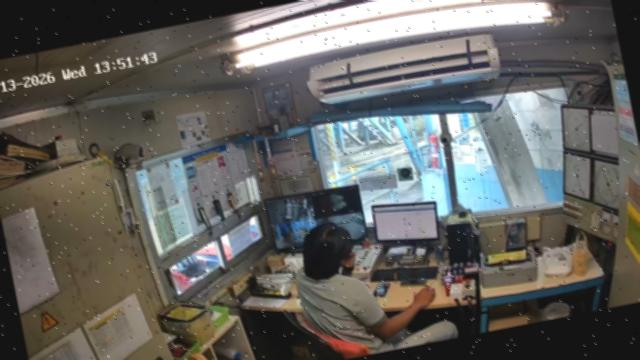Head: (303, 222, 356, 279)
People: (297, 223, 458, 358)
Phone: (398, 279, 429, 287), (374, 284, 392, 296)
